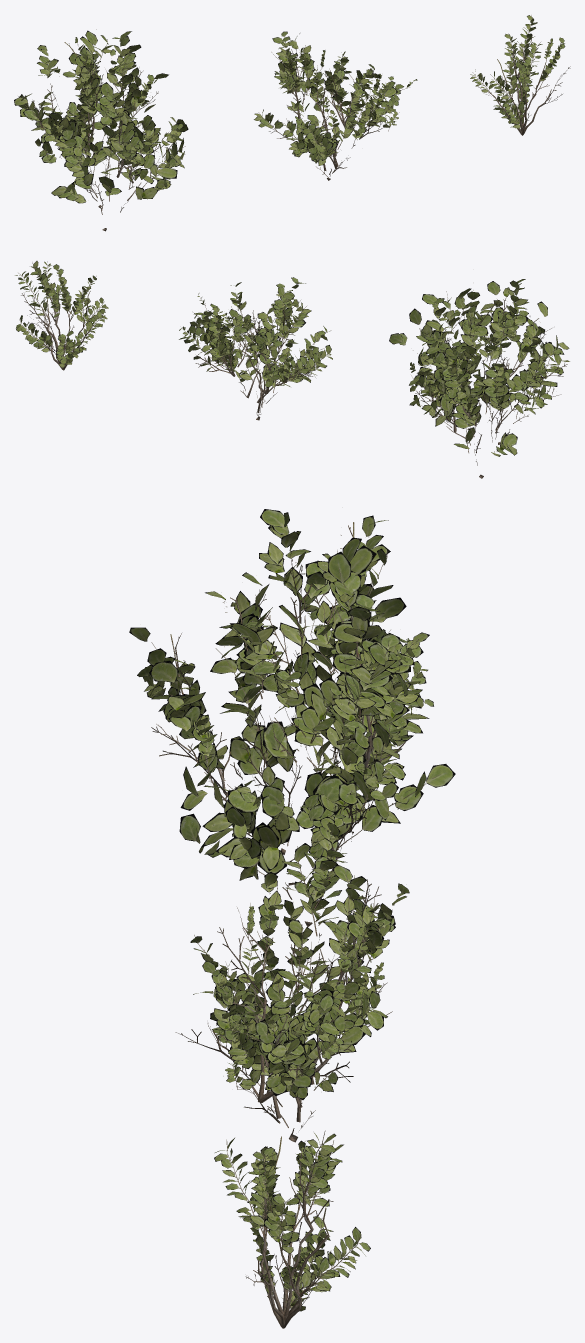
The model's file is searsia_lucida.glb.
The picture shows the model from 3 angles, top to bottom: view 1: azimuth 30°, elevation 25°; view 2: azimuth 150°, elevation 25°; view 3: azimuth 270°, elevation 25°; orthographic projection. The views are drawn at different scales.
Parts seen in each view (by area): view 1: searsia_lucida_d_LOD0, searsia_lucida_e_LOD0, searsia_lucida_f_LOD0; view 2: searsia_lucida_d_LOD0, searsia_lucida_e_LOD0, searsia_lucida_f_LOD0; view 3: searsia_lucida_d_LOD0, searsia_lucida_e_LOD0, searsia_lucida_f_LOD0.
Part boxes in pixels (box(x1,y1,x2,y2)): searsia_lucida_d_LOD0: box(14, 29, 188, 231); searsia_lucida_e_LOD0: box(254, 31, 417, 180); searsia_lucida_f_LOD0: box(470, 15, 570, 135); searsia_lucida_d_LOD0: box(389, 279, 569, 478); searsia_lucida_e_LOD0: box(179, 277, 332, 420); searsia_lucida_f_LOD0: box(15, 261, 108, 370); searsia_lucida_d_LOD0: box(129, 509, 455, 927); searsia_lucida_e_LOD0: box(175, 793, 409, 1142); searsia_lucida_f_LOD0: box(214, 1130, 370, 1328).
Bounding box in the file's own units: 3.82 × 1.42 × 1.
3 materials, 3 textured.
